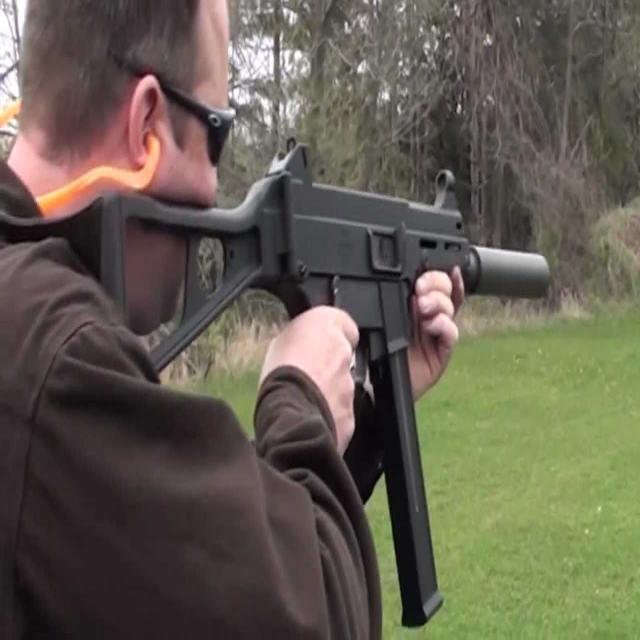SMG: (102, 148, 552, 630)
